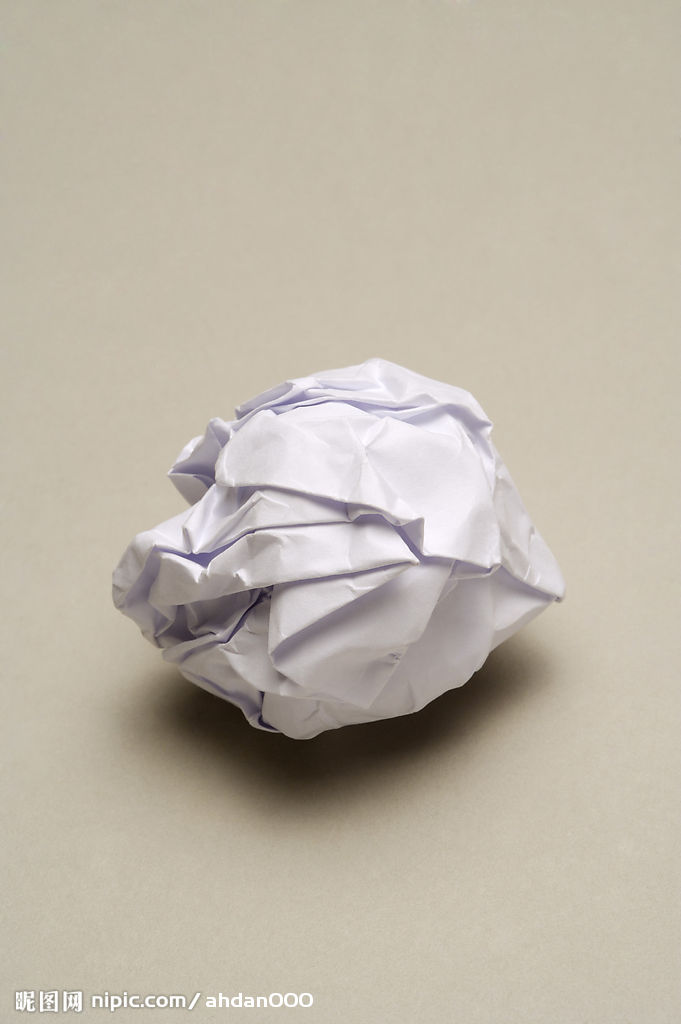flexible: (110, 357, 572, 749)
